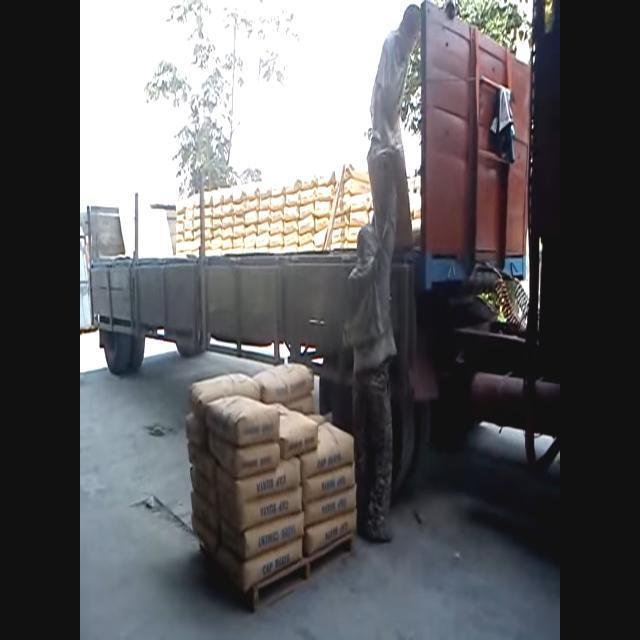gunny_bag: (215, 538, 302, 592), (216, 457, 301, 505), (221, 511, 304, 559), (204, 395, 280, 447), (219, 487, 302, 531), (208, 431, 280, 478), (189, 373, 260, 417), (301, 422, 354, 480), (303, 509, 357, 556), (255, 363, 314, 404), (303, 485, 357, 527), (302, 463, 355, 503), (279, 411, 318, 459), (191, 490, 219, 533), (188, 442, 216, 484), (190, 466, 217, 508), (191, 514, 218, 554), (185, 411, 207, 447), (299, 214, 315, 234), (315, 200, 331, 217), (301, 188, 316, 204), (300, 202, 314, 218), (284, 206, 299, 220), (286, 191, 300, 205), (284, 219, 297, 233)
